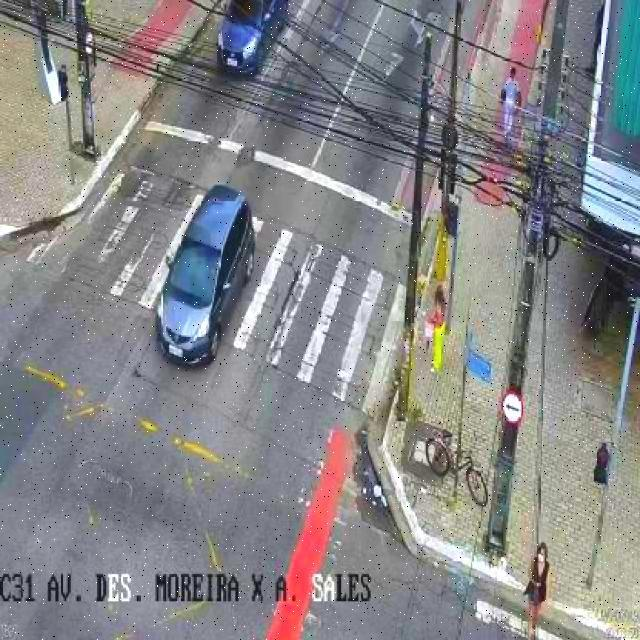Car: (152, 186, 256, 372), (212, 0, 288, 90)
